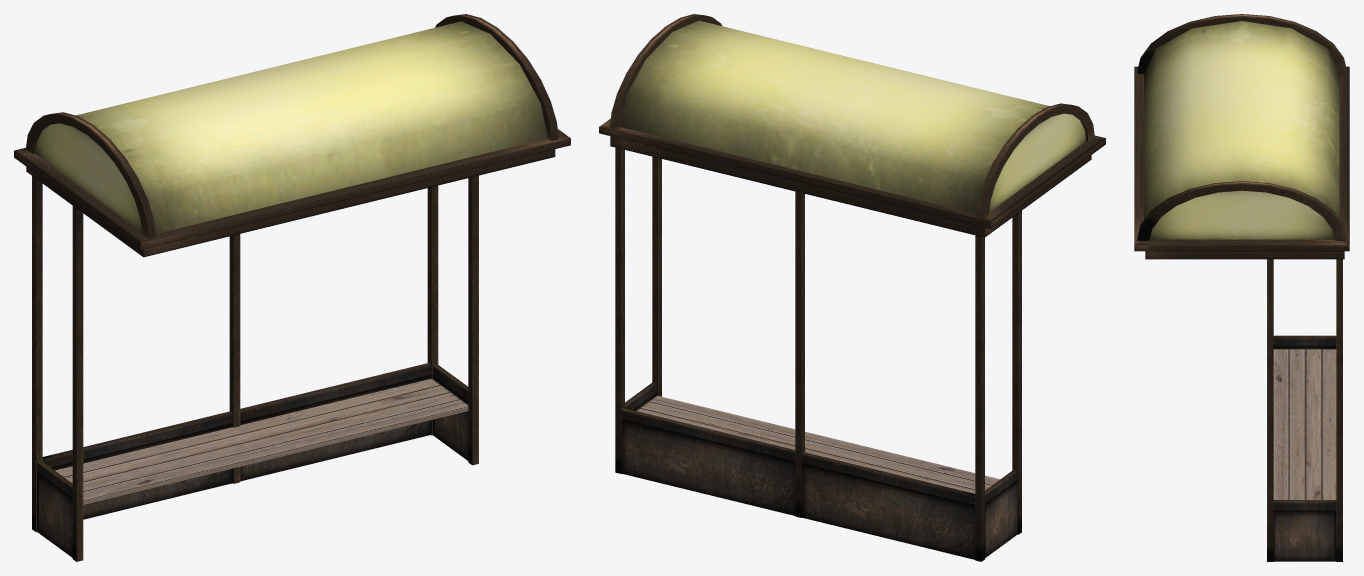
File: covered_bus_shelter.fbx
The picture shows the model from 3 angles, left to right: view 1: azimuth 30°, elevation 25°; view 2: azimuth 150°, elevation 25°; view 3: azimuth 270°, elevation 25°; orthographic projection. The views are drawn at different scales.
Visible parts, largest first — view 1: mesh_0; view 2: mesh_0; view 3: mesh_0.
Part boxes in pixels (x1=…): mesh_0: x1=14, y1=14, x2=570, y2=561; mesh_0: x1=599, y1=14, x2=1105, y2=561; mesh_0: x1=1134, y1=14, x2=1349, y2=561.
Bounding box in the file's own units: 320 × 318 × 163.
1 material, 1 textured.
